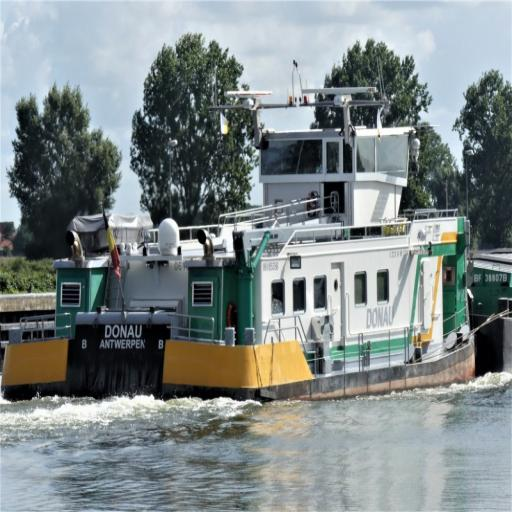tugboat: (4, 81, 483, 425)
